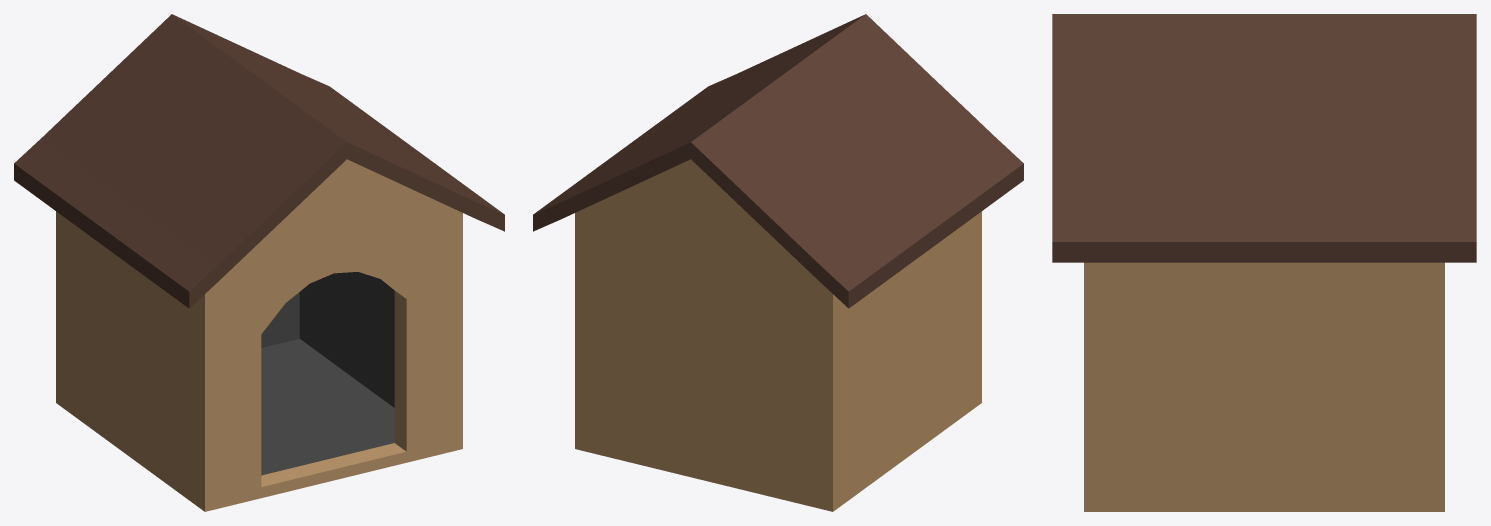
The model's file is BertHouse03.glb.
The picture shows the model from 3 angles, left to right: view 1: azimuth 30°, elevation 25°; view 2: azimuth 150°, elevation 25°; view 3: azimuth 270°, elevation 25°; orthographic projection. The views are drawn at different scales.
Parts seen in each view (by area): view 1: BertHouse.001, BertHouse; view 2: BertHouse.001; view 3: BertHouse.001.
Part boxes in pixels (x1,y1,x2,y2): BertHouse.001: (14,14,504,511); BertHouse: (261,272,394,475); BertHouse.001: (533,14,1023,511); BertHouse.001: (1052,14,1476,511).
Size of the model in its own units: 2.45 by 2.58 by 2.35.
